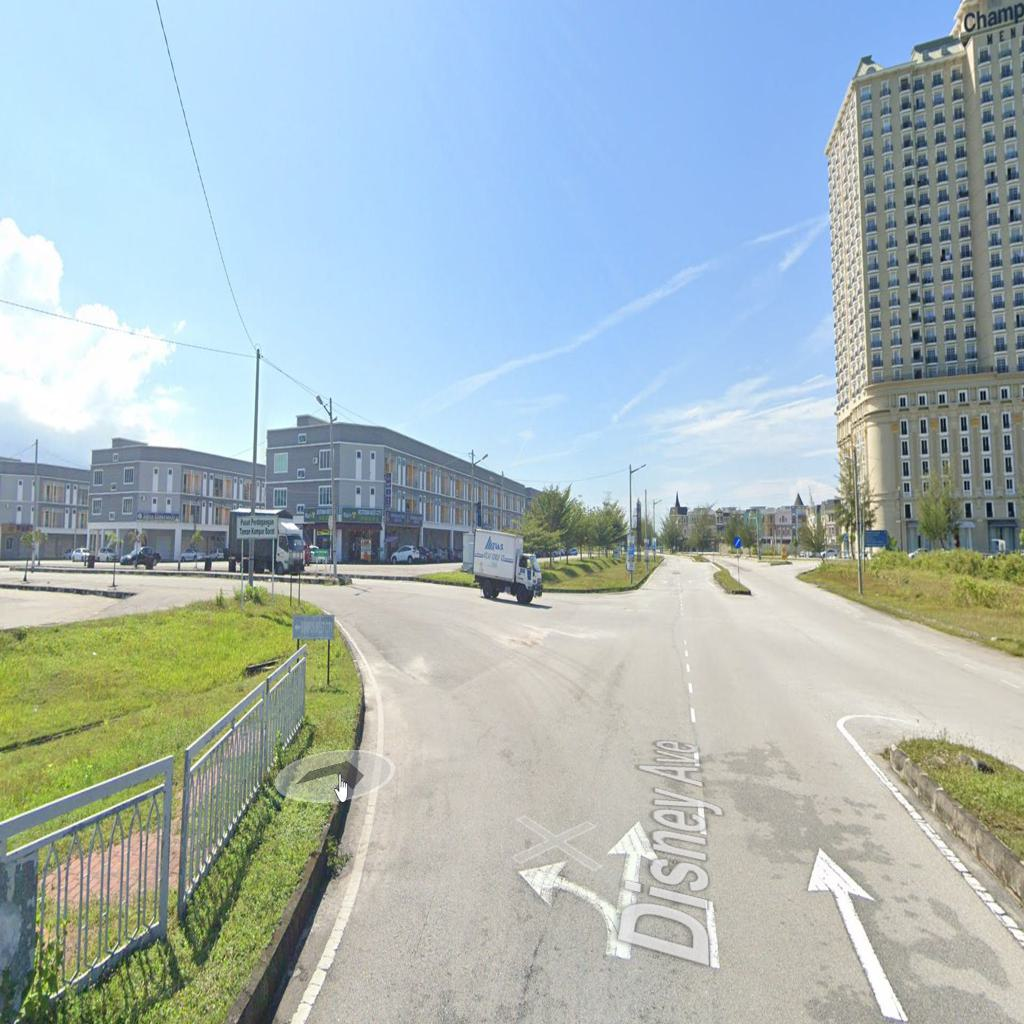Junction: (304, 546, 657, 813)
